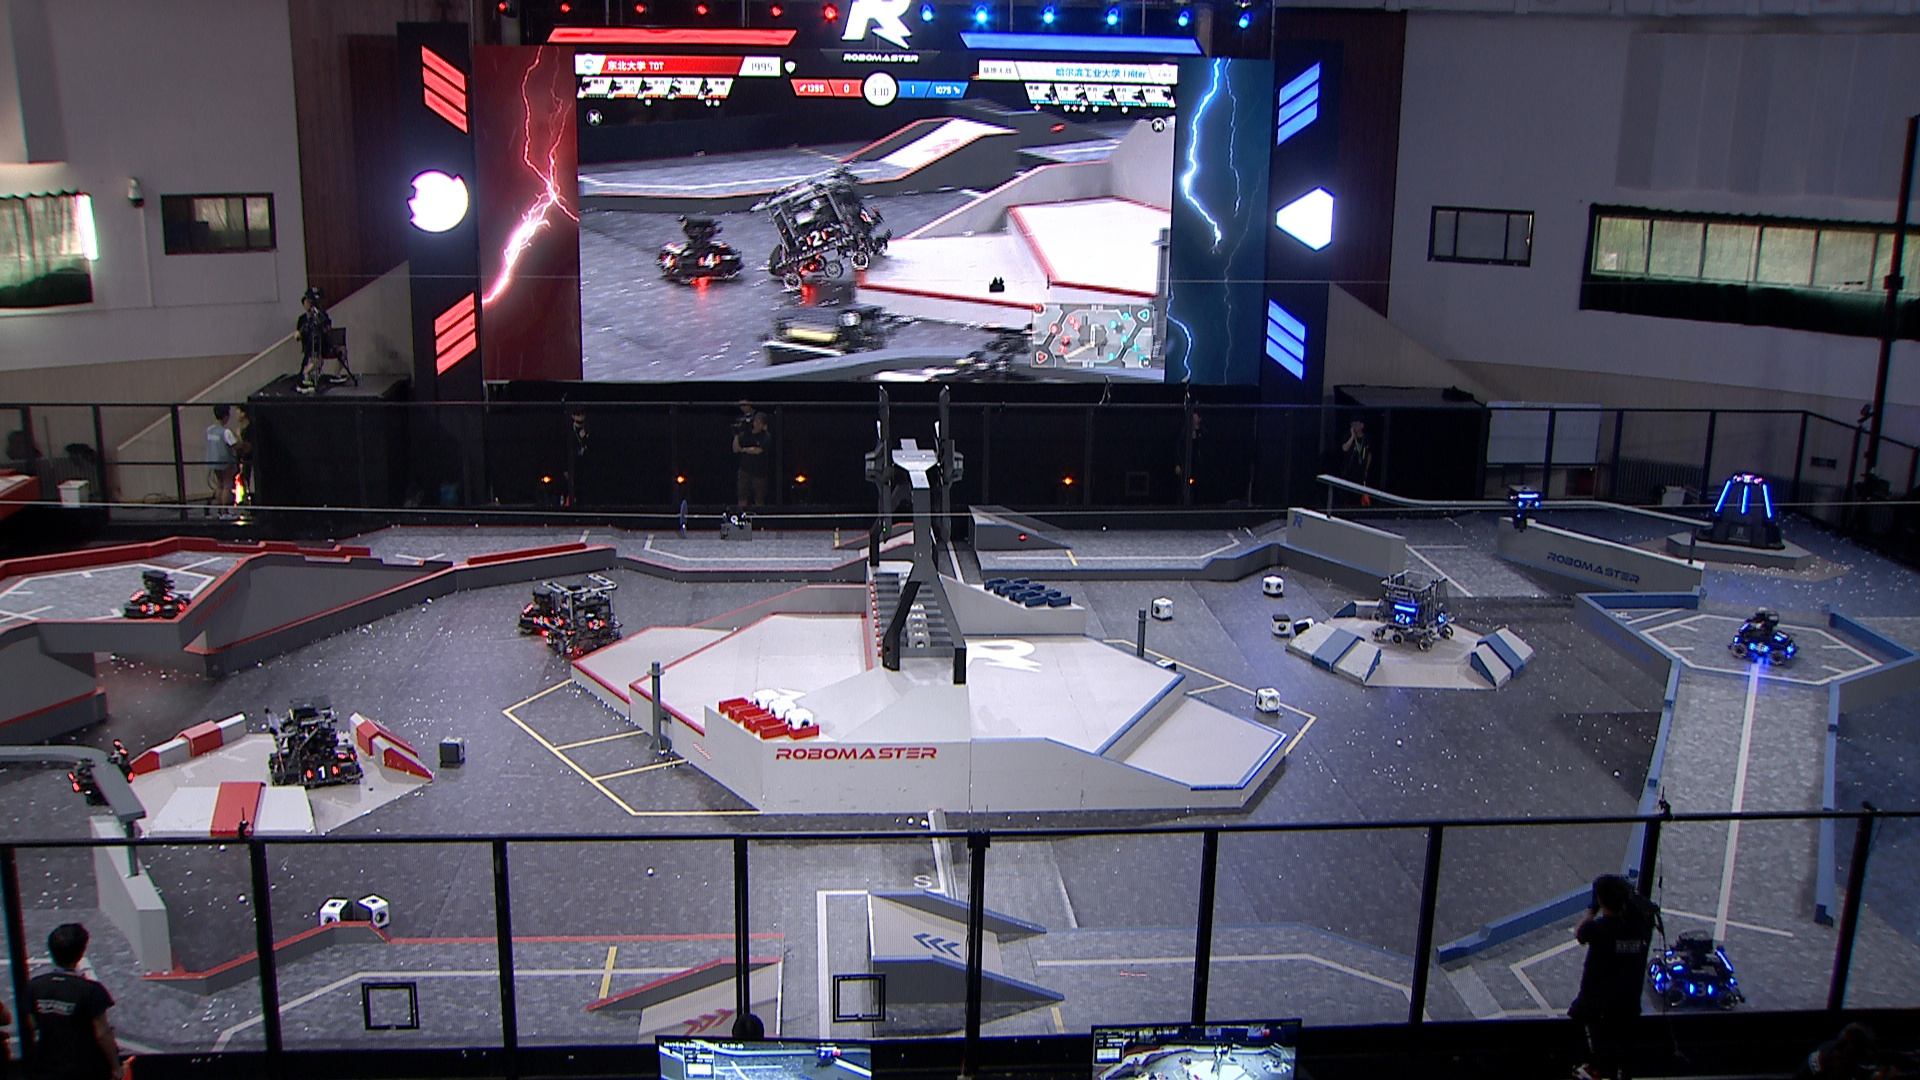armor: (1662, 943, 1689, 975), (305, 761, 339, 785), (1712, 479, 1735, 510), (330, 737, 351, 764), (1760, 481, 1775, 520), (1689, 978, 1717, 998), (266, 756, 286, 782), (1646, 963, 1665, 986), (65, 771, 82, 796), (138, 599, 160, 617), (1738, 485, 1750, 516), (585, 616, 608, 632), (1747, 640, 1768, 655), (161, 585, 179, 603), (1518, 498, 1542, 512), (1768, 628, 1788, 644), (1391, 611, 1411, 626), (549, 611, 566, 628), (177, 597, 193, 613), (1436, 609, 1451, 626), (531, 613, 550, 626)
base: (1687, 469, 1787, 553)
car: (1642, 927, 1751, 1017), (258, 698, 363, 789), (538, 570, 624, 657), (1371, 567, 1456, 655), (1730, 603, 1804, 669), (121, 570, 196, 626), (520, 575, 574, 637)
ignore: (760, 167, 893, 295), (765, 280, 880, 367), (654, 214, 749, 287), (1731, 471, 1760, 485)
watcher: (65, 735, 138, 812), (1509, 481, 1544, 531)
